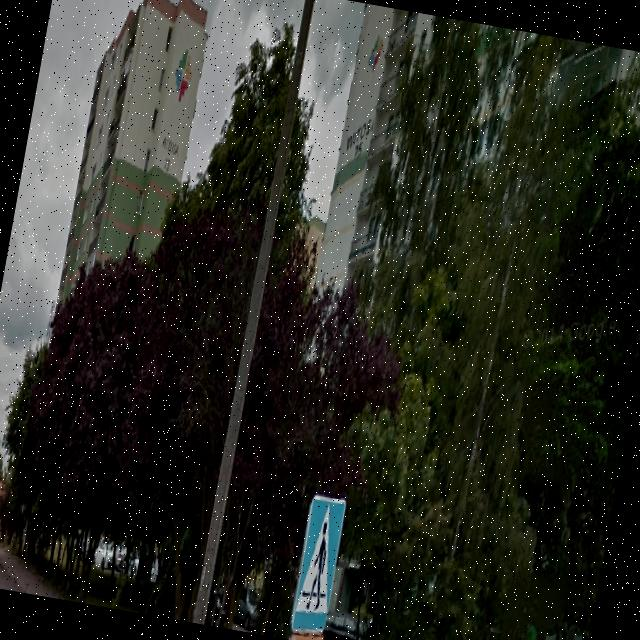Przejscie dla pieszych: (288, 492, 346, 637)
